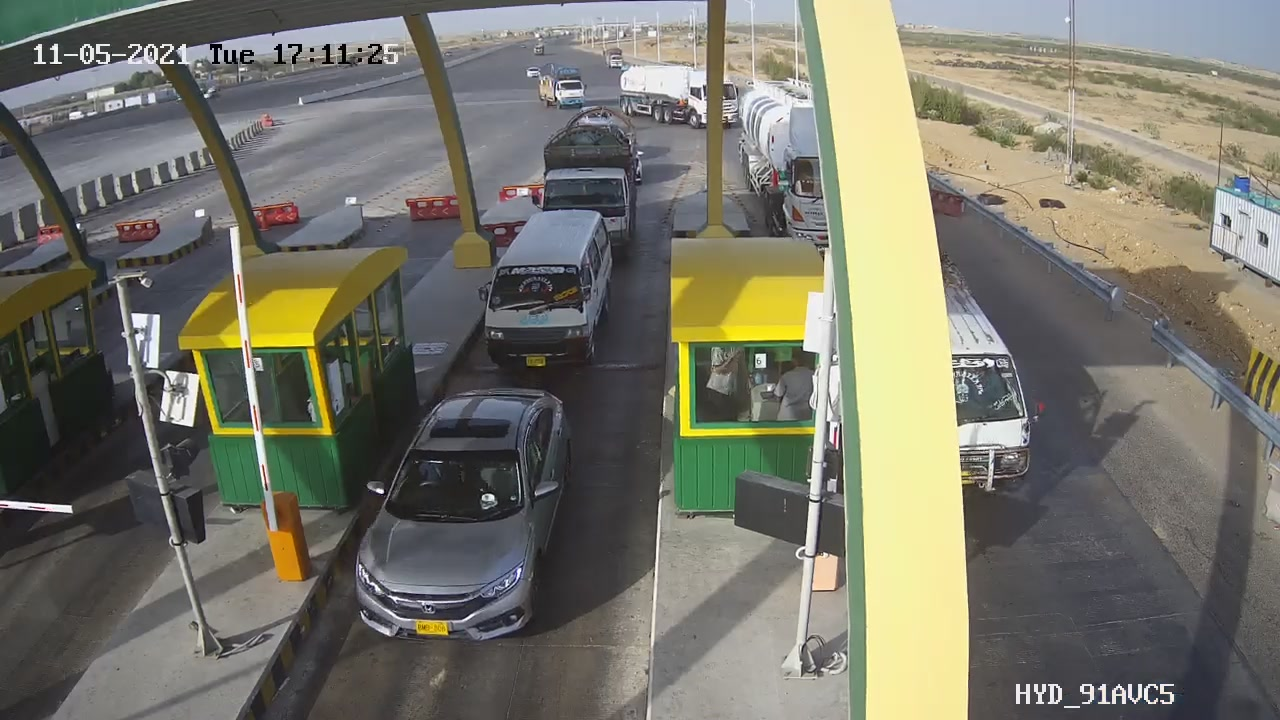F1: (333, 375, 598, 659)
F2: (473, 205, 624, 379)
